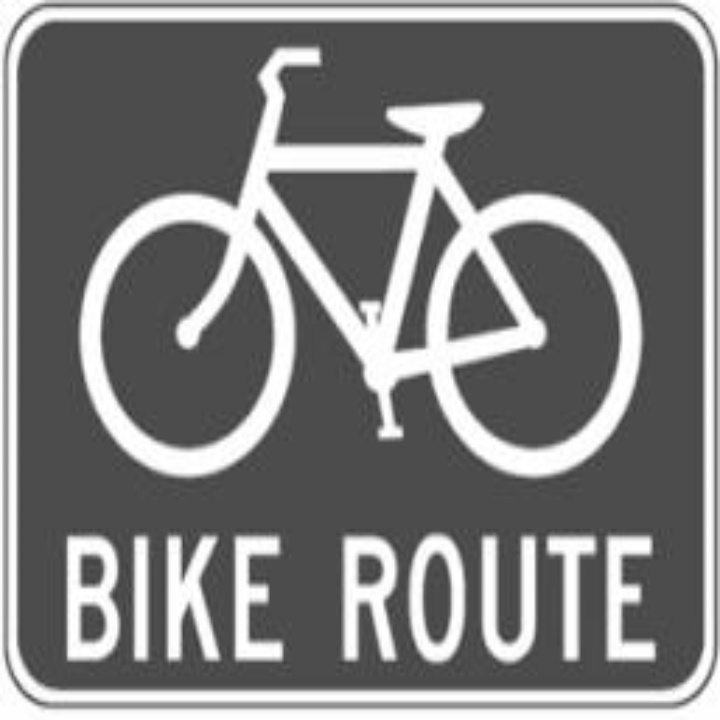bicycle: (69, 37, 665, 493)
